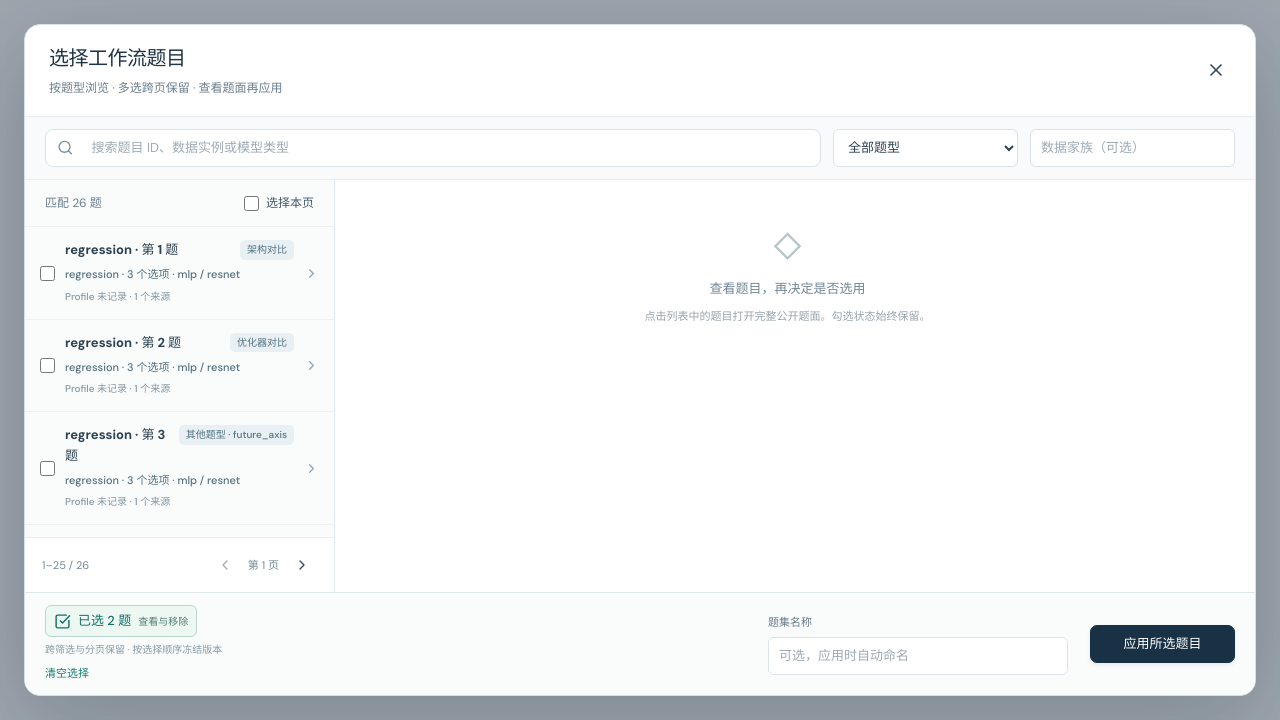
distinguishes revisions of the same question and removes one without changing the other's identity
Click the button with aria-label "查看已选 2 题" at (121, 621), box [45,605,197,637]
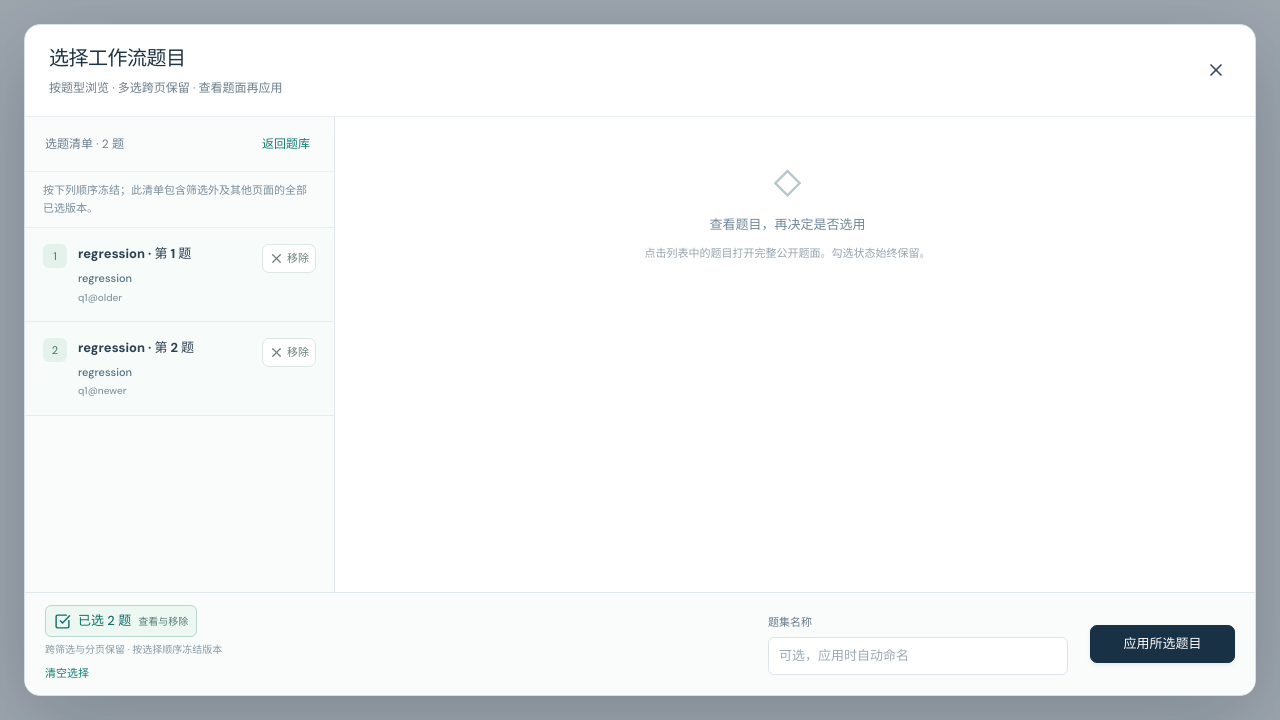
Click the button with aria-label "移除已选题目 q1@older" at (289, 259), box [262,244,316,273]
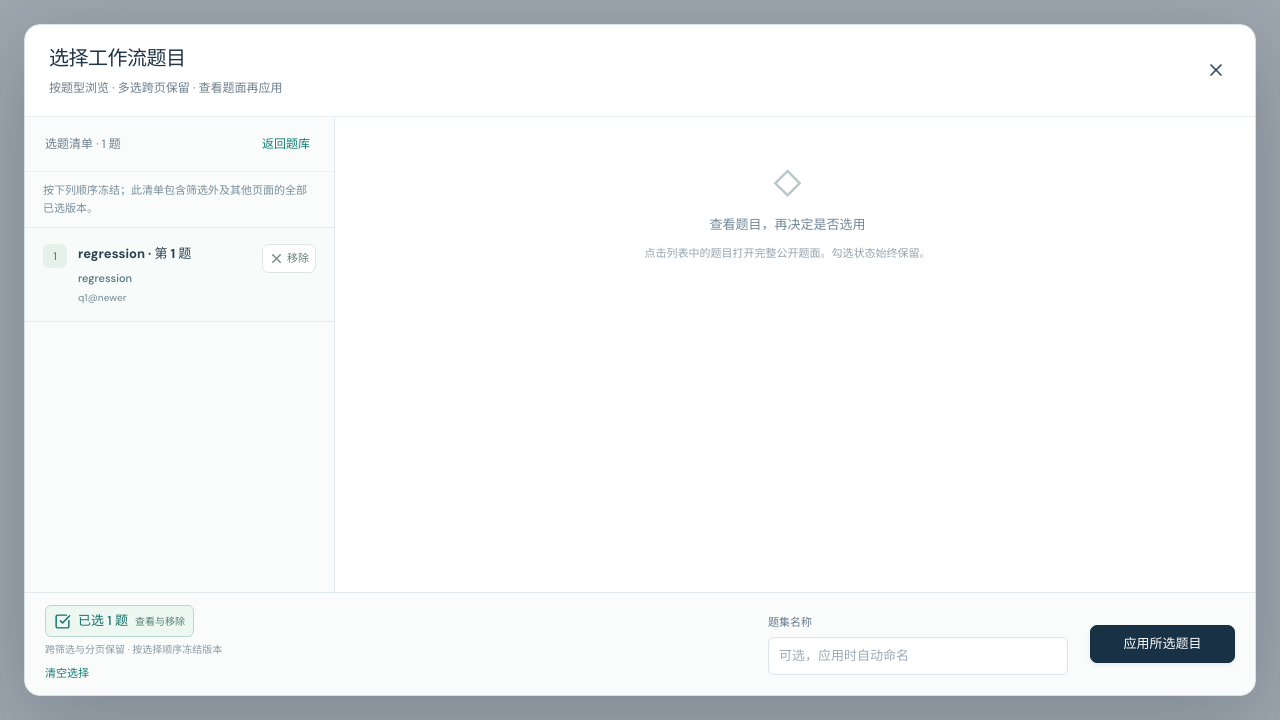
expect the number of list items is 1: met, box [25,228,334,322]
